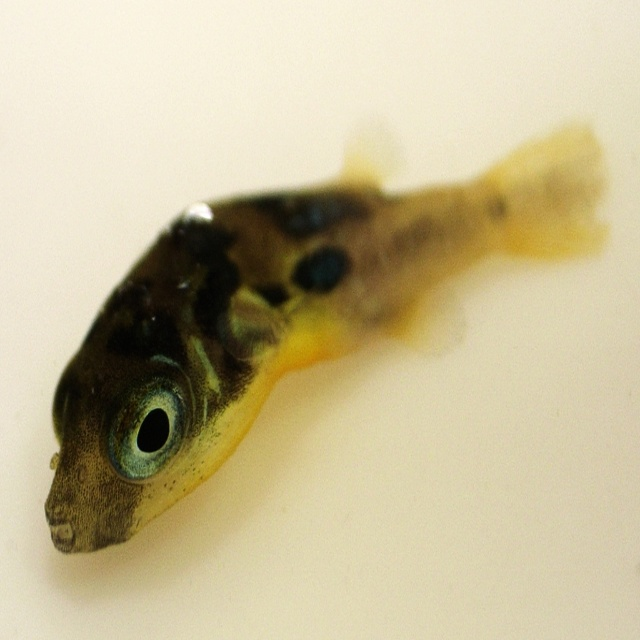Fish: (45, 128, 610, 559)
